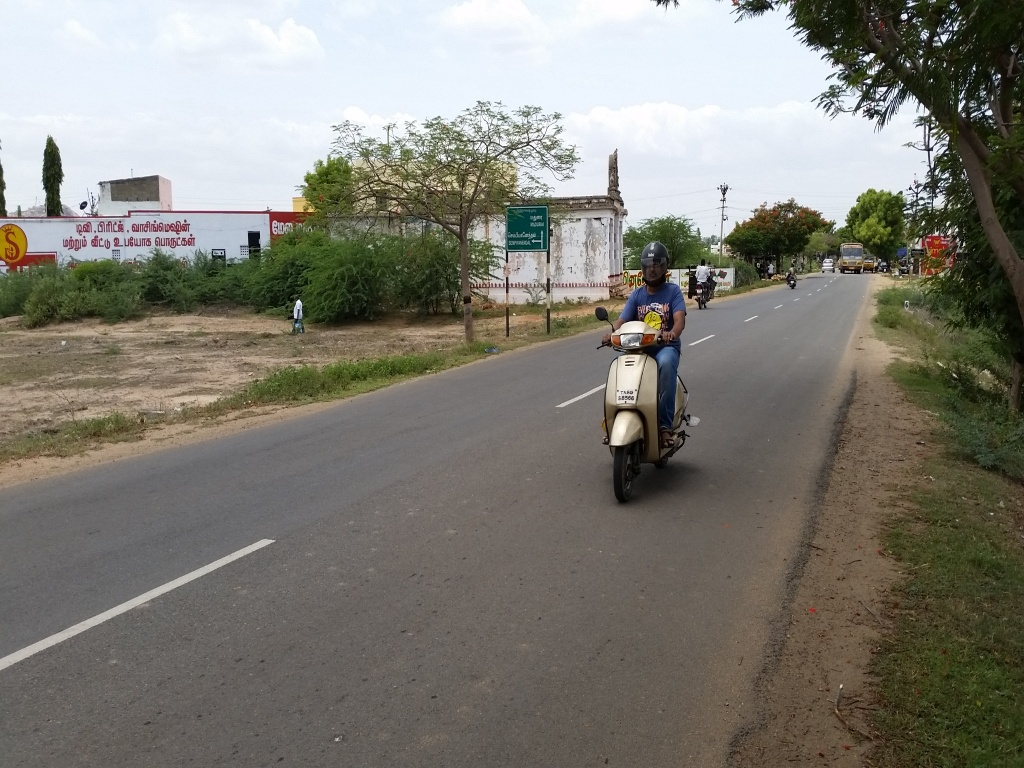biker: (580, 221, 733, 510), (688, 239, 728, 316)
helmet: (632, 231, 681, 298)
nohelmet: (698, 253, 710, 270)
